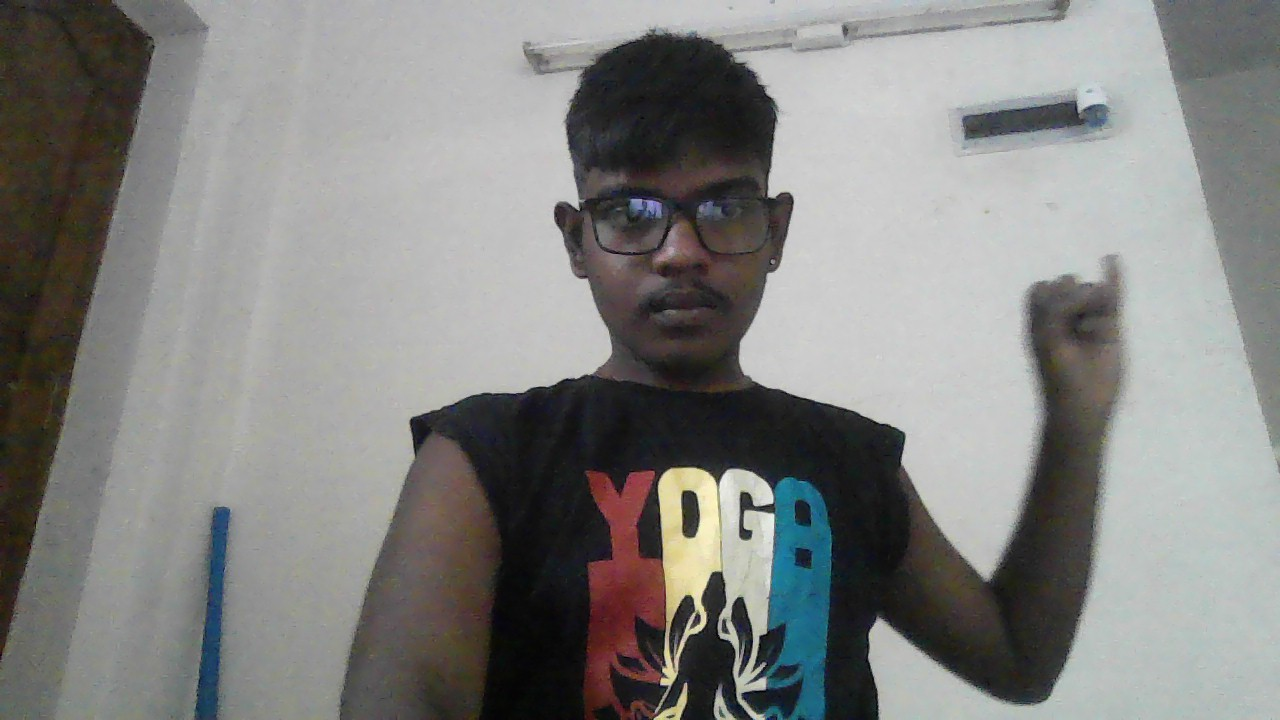I: (1024, 255, 1130, 428)
